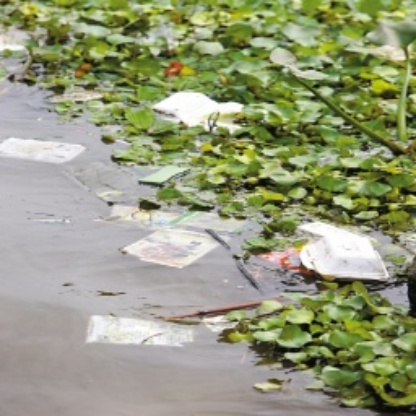plastic-bag: (118, 222, 220, 269), (86, 313, 197, 349), (1, 135, 89, 168)
plastic-garbage: (298, 223, 391, 286)
